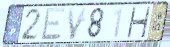1: (113, 7, 124, 39)
2: (20, 7, 43, 41)
8: (85, 7, 106, 41)
E: (40, 7, 67, 42)
H: (125, 6, 152, 39)
V: (66, 6, 89, 42)
